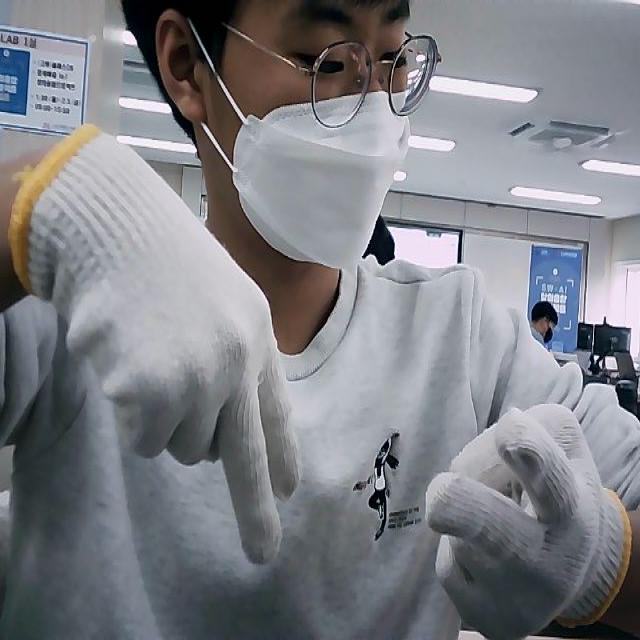gloves: (10, 123, 301, 564), (426, 401, 632, 640)
